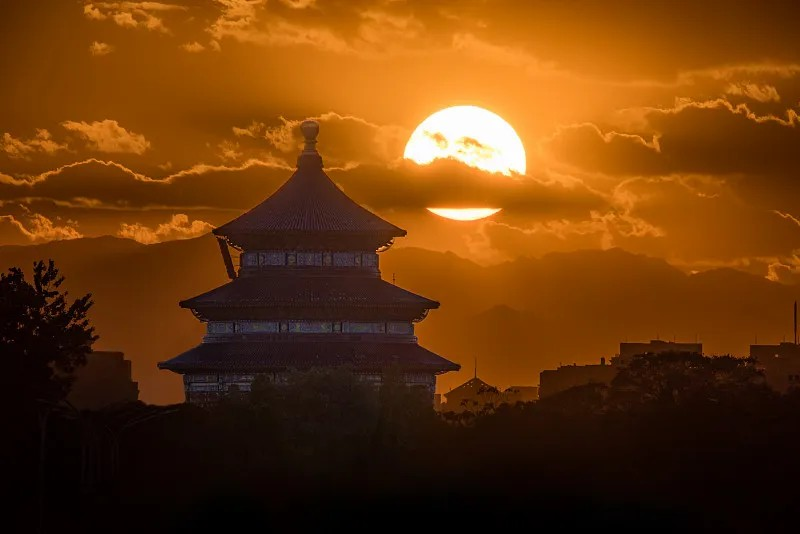Heaven: (159, 121, 462, 406)
